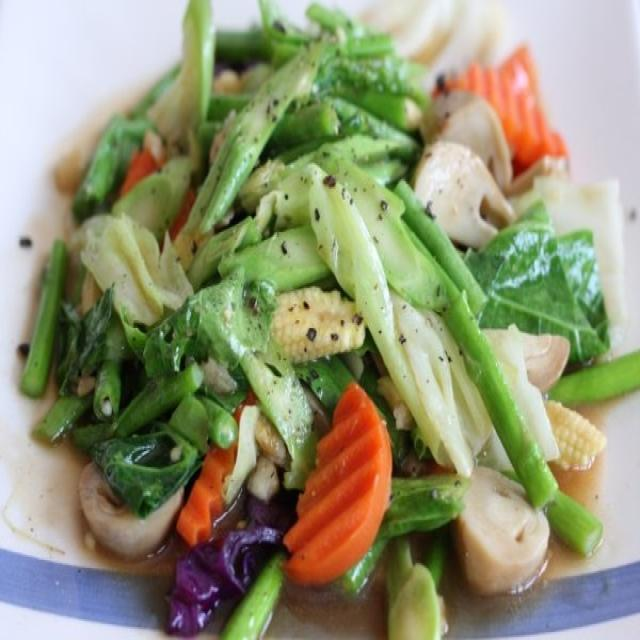蔬菜料理: (25, 21, 616, 608)
